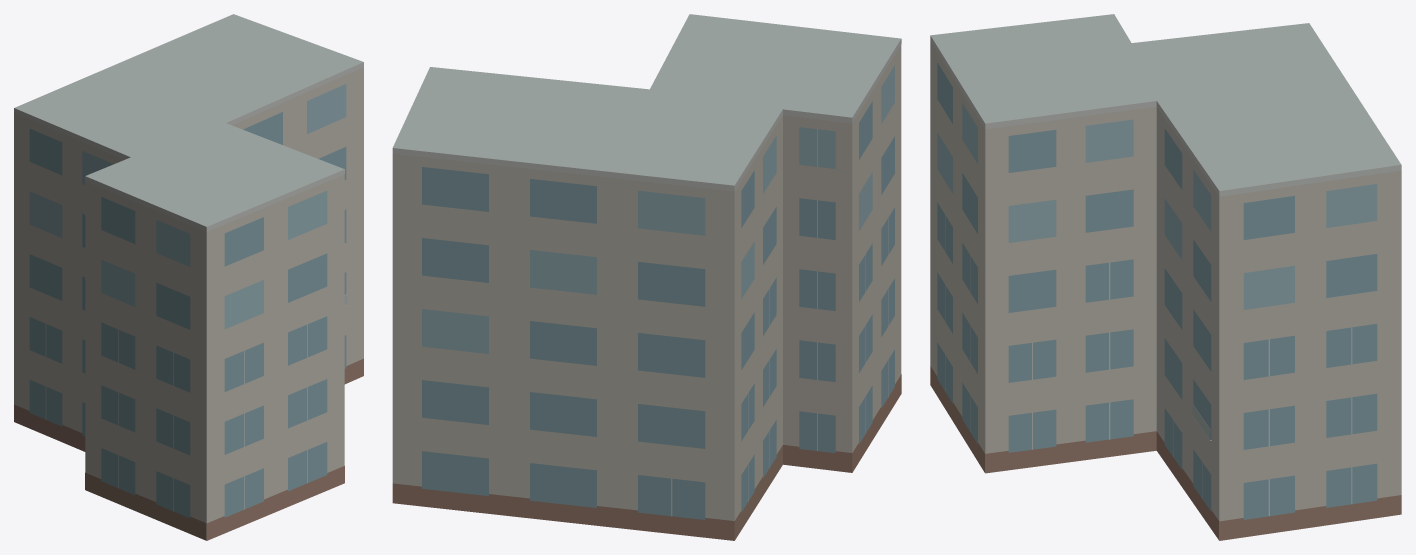
Rendered from survey-upis-32877106.glb.
3 views of the same model, side by side, from view 1: azimuth 30°, elevation 25°; view 2: azimuth 150°, elevation 25°; view 3: azimuth 270°, elevation 25° (orthographic). The views are drawn at different scales.
Visible parts, largest first — view 1: survey-upis-32877106.tmp; view 2: survey-upis-32877106.tmp; view 3: survey-upis-32877106.tmp.
Part boxes in pixels (x1,y1,x2,y2): survey-upis-32877106.tmp: (14,14,363,540); survey-upis-32877106.tmp: (392,14,901,540); survey-upis-32877106.tmp: (930,14,1401,540).
Size of the model in its own units: 16.37 by 15.06 by 18.4.
